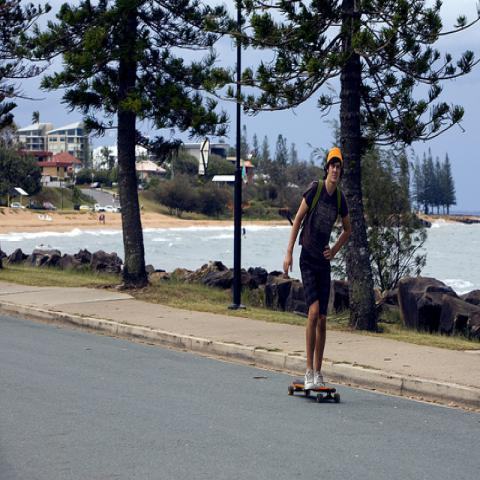car: (10, 201, 26, 210), (103, 204, 118, 213), (43, 201, 58, 210), (79, 205, 90, 211), (91, 182, 101, 188)
